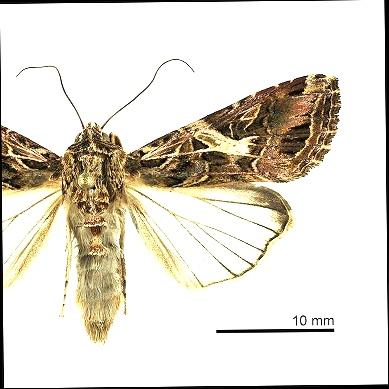Spodoptera litura: (2, 58, 344, 352)
